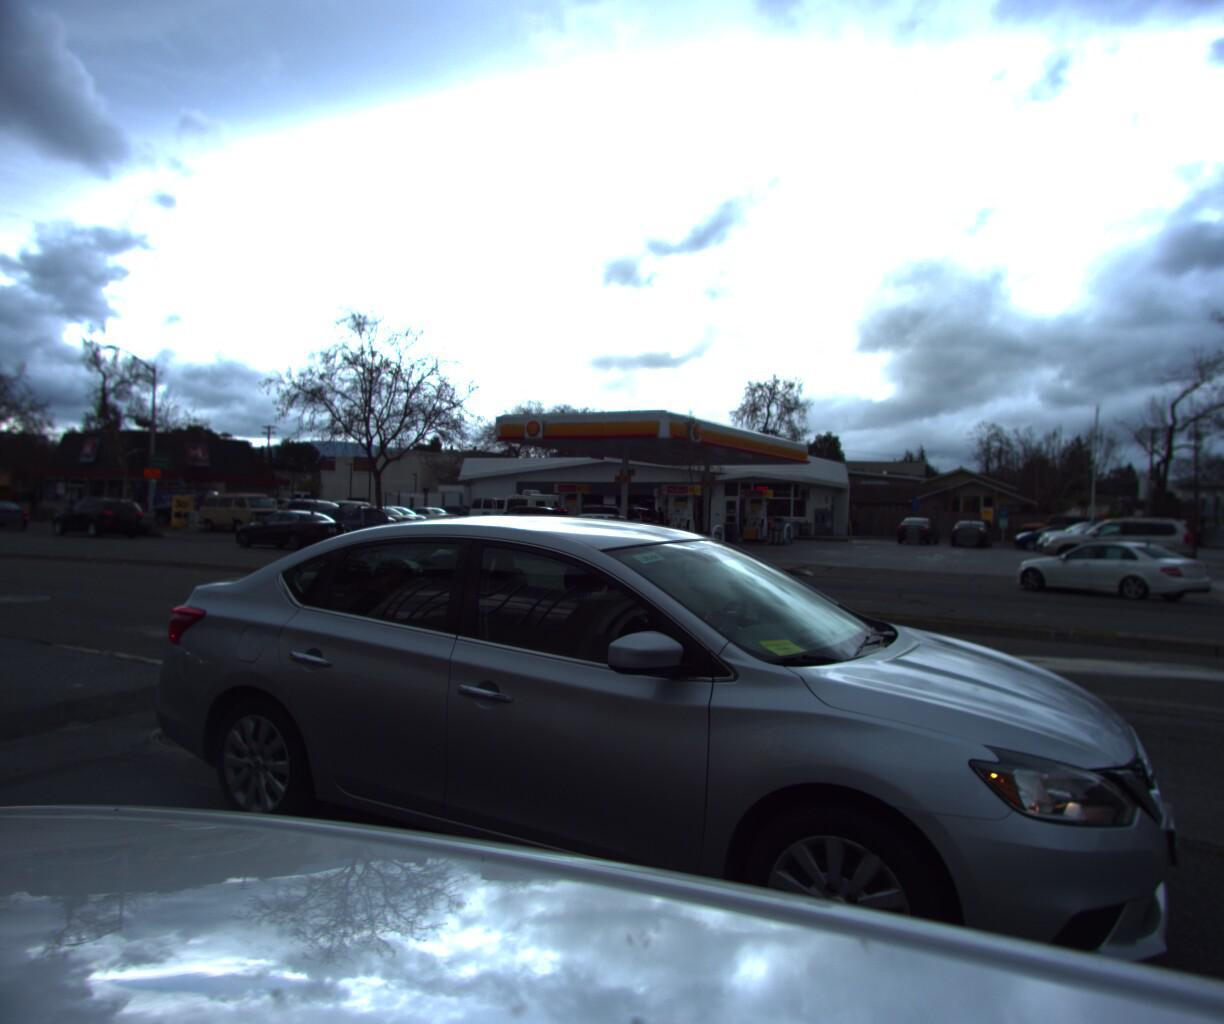car: (112, 486, 1165, 1024), (1005, 513, 1224, 602), (1032, 513, 1199, 573), (523, 511, 684, 573), (227, 513, 351, 557), (532, 501, 650, 548), (397, 519, 524, 562), (464, 503, 586, 548), (279, 509, 394, 553), (1033, 516, 1153, 556), (138, 485, 249, 529), (1031, 514, 1148, 554), (1028, 520, 1151, 558), (44, 499, 149, 543), (53, 500, 161, 541), (1004, 516, 1112, 551), (567, 504, 669, 541), (195, 495, 284, 536), (1009, 513, 1103, 550), (285, 501, 369, 538), (463, 496, 538, 532), (340, 503, 427, 532), (357, 502, 438, 533), (632, 490, 701, 523), (390, 504, 464, 531), (888, 514, 945, 544), (941, 516, 996, 546), (0, 507, 33, 538), (1183, 521, 1224, 542), (1202, 522, 1224, 544)
other_vehicle: (496, 489, 587, 532)
